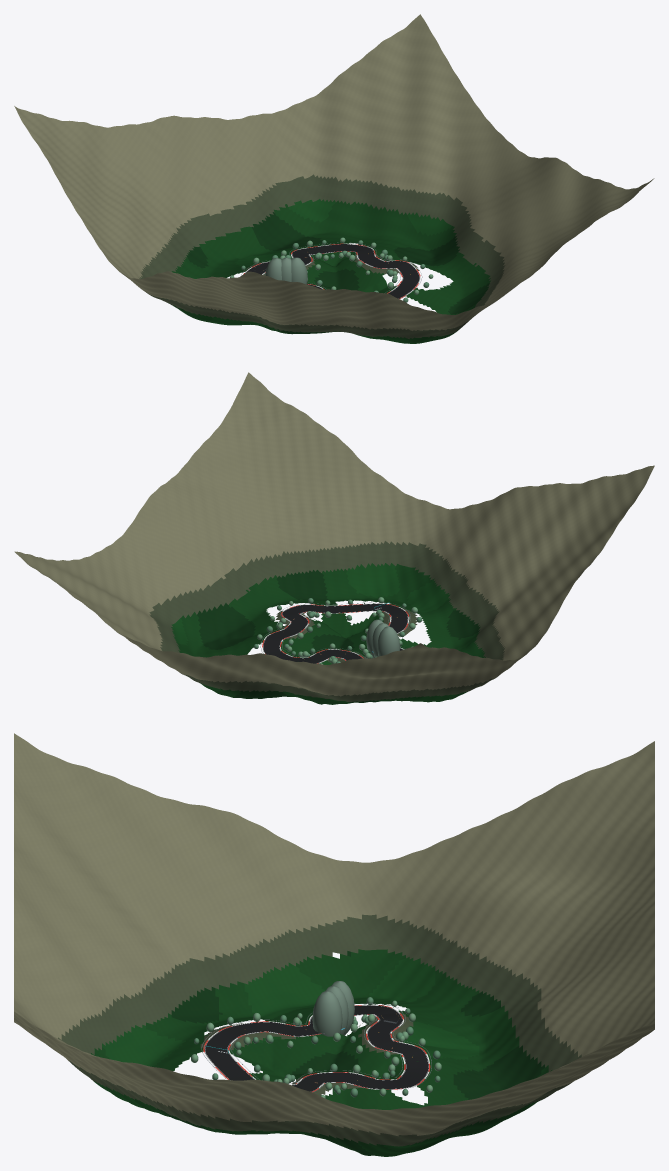
File: jungle_falls.glb
3 renders of one model, top to bottom at view 1: azimuth 30°, elevation 25°; view 2: azimuth 150°, elevation 25°; view 3: azimuth 270°, elevation 25°, orthographic. The views are drawn at different scales.
Visible parts, largest first — view 1: jungle_falls - Blender Mountain Course.011 - Combined Blende; view 2: jungle_falls - Blender Mountain Course.011 - Combined Blende; view 3: jungle_falls - Blender Mountain Course.011 - Combined Blende.
Boxes of the visible parts, <box> form: jungle_falls - Blender Mountain Course.011 - Combined Blende: <box>14,14,654,343</box>; jungle_falls - Blender Mountain Course.011 - Combined Blende: <box>14,372,654,704</box>; jungle_falls - Blender Mountain Course.011 - Combined Blende: <box>14,733,654,1156</box>.
Bounding box in the file's own units: 715 × 264 × 715.
25 materials, 6 textured.
